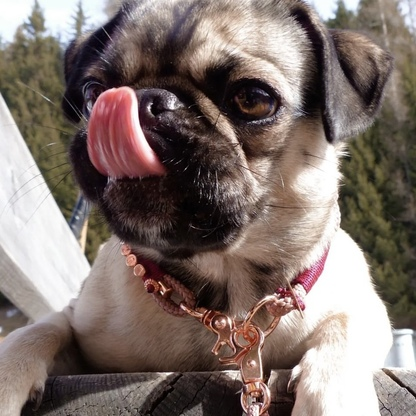Pug: (1, 1, 402, 416)
